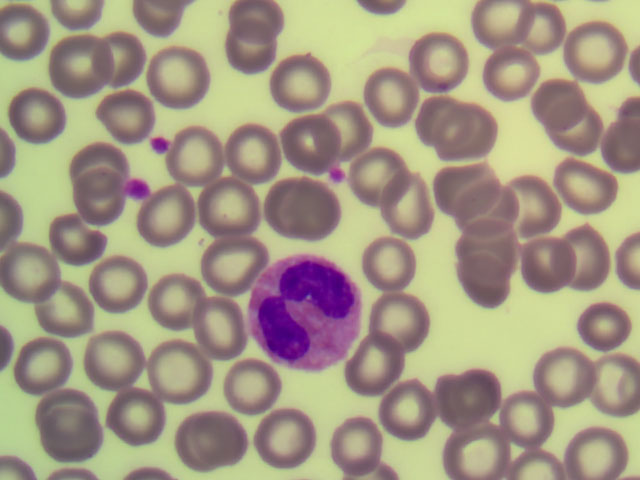Platelets: (122, 176, 150, 203), (144, 132, 175, 155), (327, 167, 345, 183)
RBC: (259, 174, 349, 240), (44, 33, 116, 94), (91, 27, 163, 88), (150, 47, 222, 108), (89, 86, 161, 147), (17, 89, 89, 150), (57, 134, 129, 195), (50, 167, 122, 228), (445, 423, 512, 480), (557, 423, 624, 480), (269, 54, 336, 110), (271, 108, 338, 164), (308, 99, 375, 155), (217, 121, 284, 177), (176, 120, 243, 176), (189, 168, 256, 224), (141, 193, 208, 249), (191, 225, 258, 281), (148, 270, 215, 326), (180, 302, 247, 358), (144, 341, 211, 397), (224, 365, 291, 421), (253, 412, 320, 468), (183, 407, 250, 463), (97, 387, 164, 443), (75, 320, 142, 376), (89, 258, 156, 314), (29, 283, 96, 339), (10, 240, 77, 296), (50, 210, 117, 266), (20, 340, 87, 396), (34, 381, 101, 437), (40, 412, 107, 468), (319, 414, 386, 470), (372, 384, 439, 440), (343, 340, 410, 396), (374, 300, 441, 356), (357, 236, 424, 292), (373, 184, 440, 240), (345, 148, 412, 204), (359, 66, 426, 122), (401, 35, 468, 91), (406, 83, 473, 139), (446, 104, 513, 160), (433, 161, 500, 217), (463, 198, 530, 254), (448, 236, 515, 292), (450, 258, 517, 314), (494, 177, 561, 233), (547, 162, 614, 218), (545, 115, 612, 171), (524, 79, 591, 135), (475, 48, 542, 104), (509, 2, 576, 58), (464, 2, 531, 58), (553, 23, 620, 79), (557, 231, 624, 287), (515, 241, 582, 297), (570, 300, 637, 356), (573, 353, 640, 409), (541, 347, 608, 403), (491, 386, 558, 442), (438, 369, 505, 425), (220, 31, 277, 74), (2, 5, 49, 56), (222, 1, 280, 36)
WBC: (237, 250, 366, 370)
